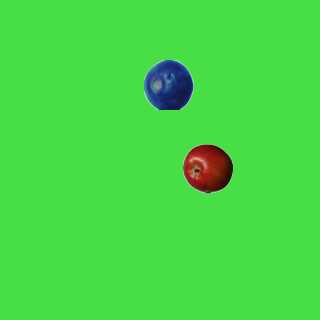Apple Braeburn: (182, 143, 232, 193)
Huckleberry: (143, 59, 193, 109)
